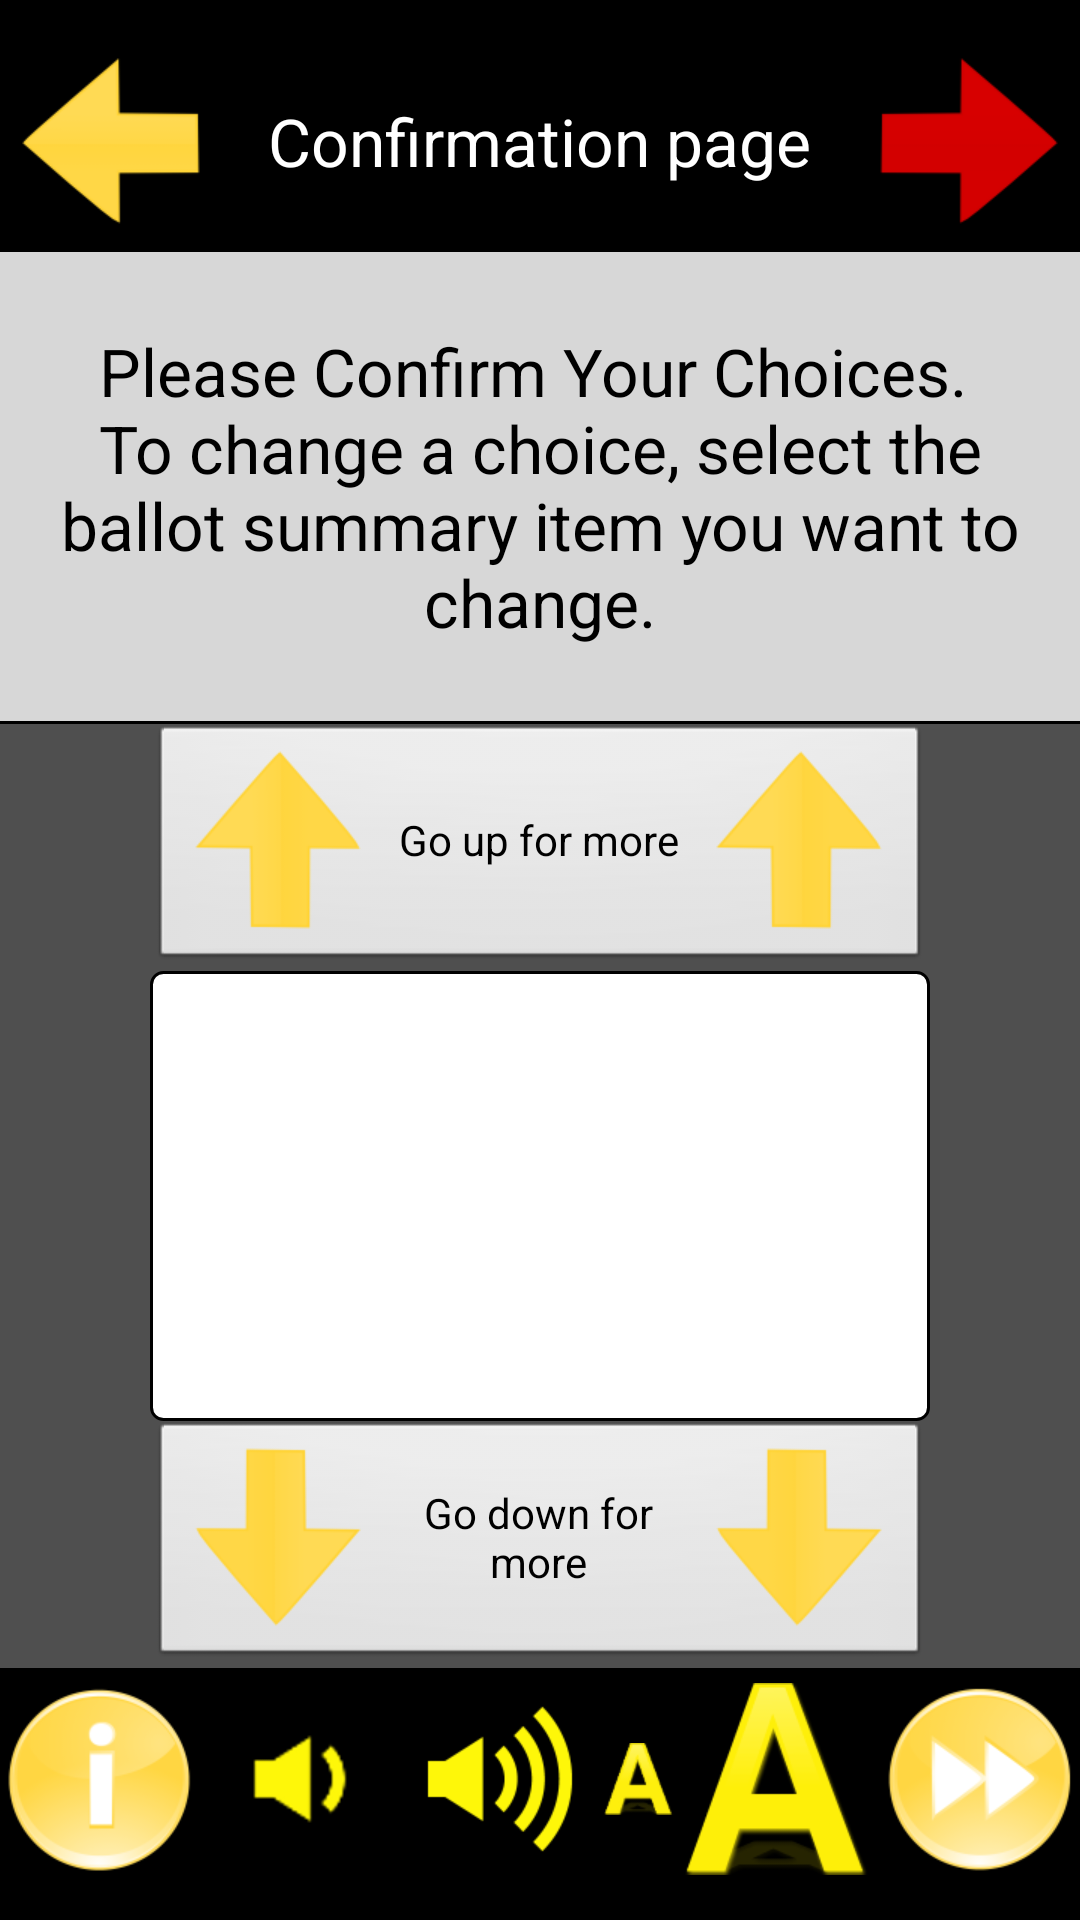

Icons on this 1080w x 1920h Android screen, each with its box as (x1, y1, x2, y2):
end: (888, 1688, 1071, 1871)
help: (8, 1689, 190, 1871)
previous: (22, 58, 200, 224)
vol dec: (253, 1736, 347, 1822)
vol inc: (427, 1706, 573, 1852)
